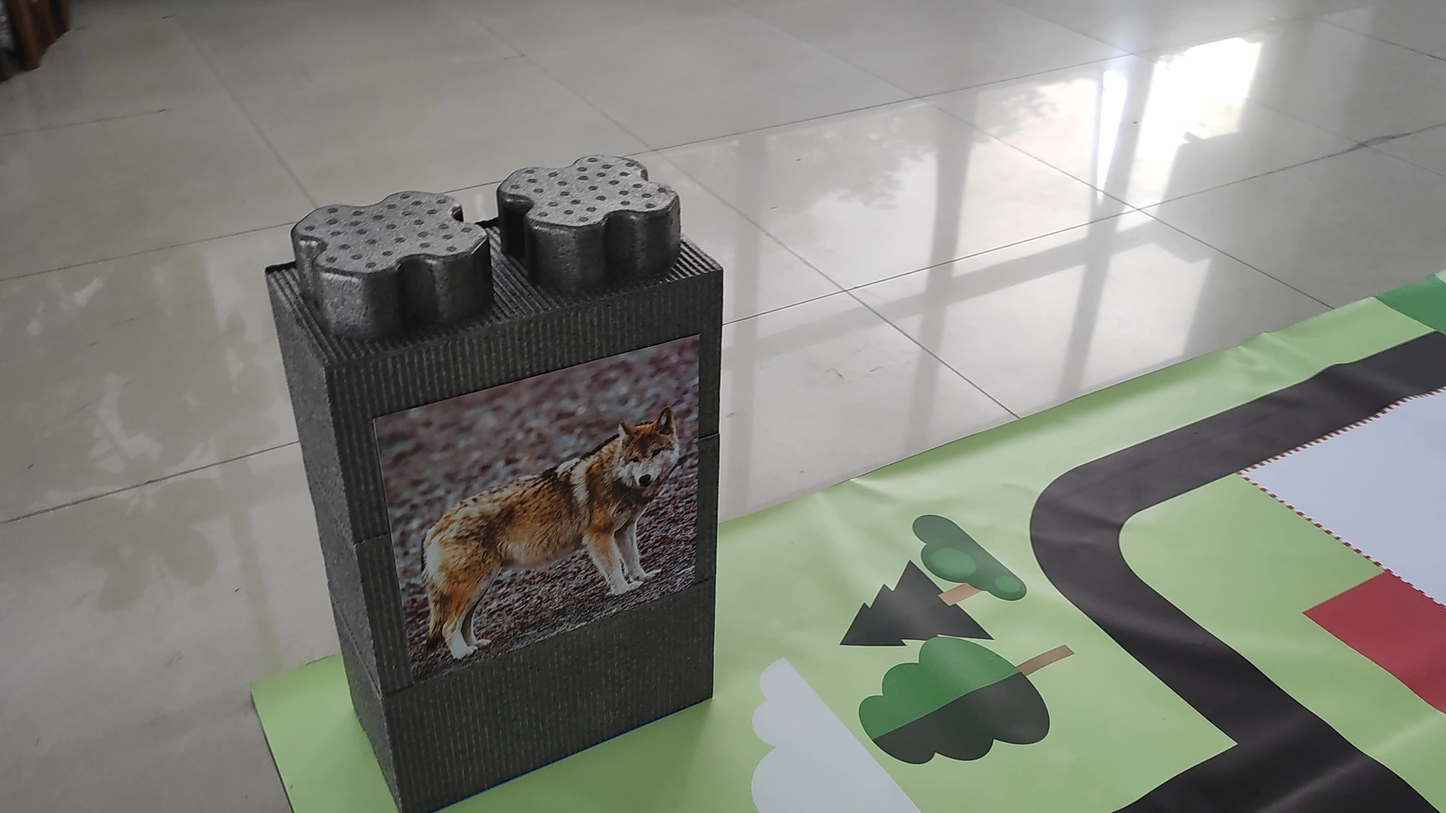wolf: (393, 400, 685, 672)
